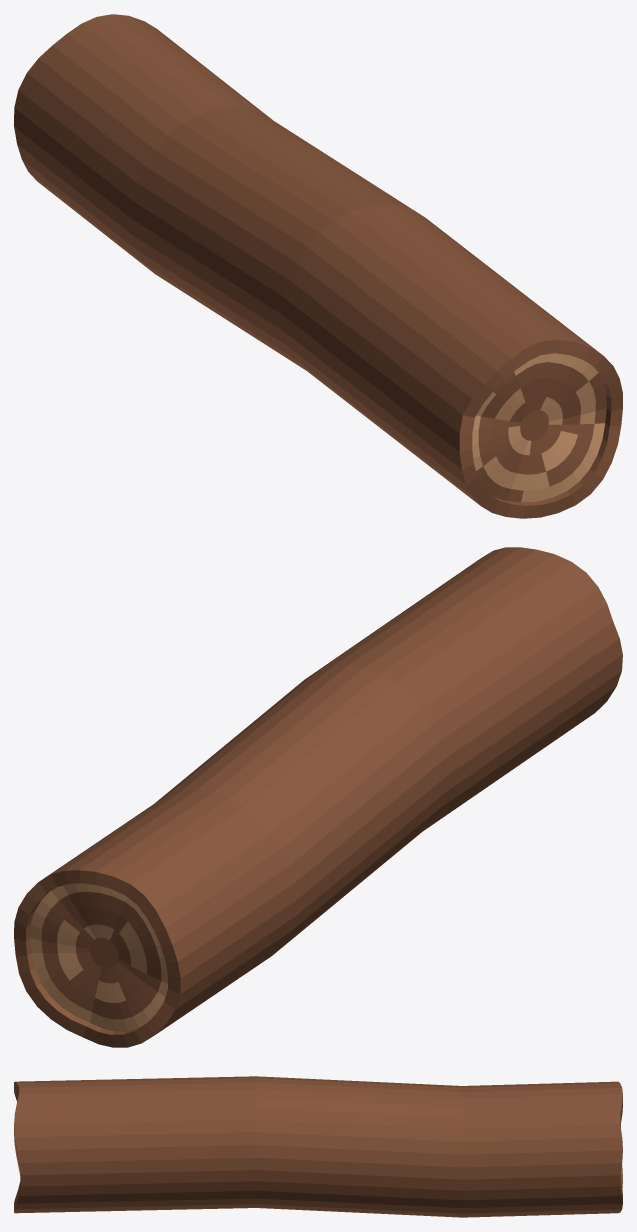
Rendered from LOG.fbx.
3 views of the same model, one above another, from view 1: azimuth 30°, elevation 25°; view 2: azimuth 150°, elevation 25°; view 3: azimuth 270°, elevation 25° (orthographic). The views are drawn at different scales.
Parts seen in each view (by area): view 1: Cylinder; view 2: Cylinder; view 3: Cylinder.
Part boxes in pixels (left/top/right/bottom): Cylinder: left=14, top=14, right=622, bottom=518; Cylinder: left=14, top=547, right=622, bottom=1047; Cylinder: left=14, top=1076, right=622, bottom=1217.
Size of the model in its own units: 200 by 216 by 924.
